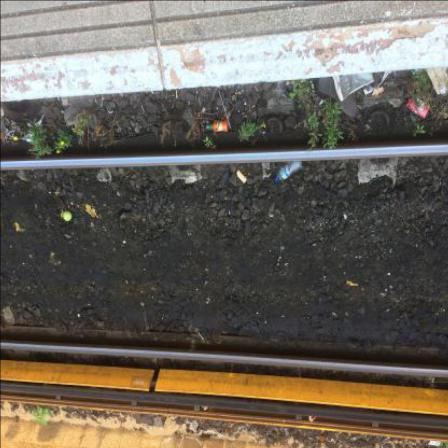Bottle: (276, 162, 304, 183), (208, 121, 230, 133), (14, 134, 34, 143)
Cigarette: (176, 91, 178, 99)
Other litter: (315, 78, 358, 118), (428, 68, 448, 94)
Other plastic: (237, 171, 248, 184), (64, 211, 72, 222)
Paper: (333, 73, 375, 102), (365, 72, 394, 96), (190, 421, 204, 437)
Plastic bag - wrapper: (406, 99, 431, 120)
Pop tab: (270, 215, 274, 218)
Straw: (219, 92, 232, 129)
Unlabeled litter: (437, 86, 448, 96), (310, 417, 318, 423), (202, 408, 209, 412), (143, 217, 146, 223), (237, 85, 240, 90), (222, 105, 226, 108)
